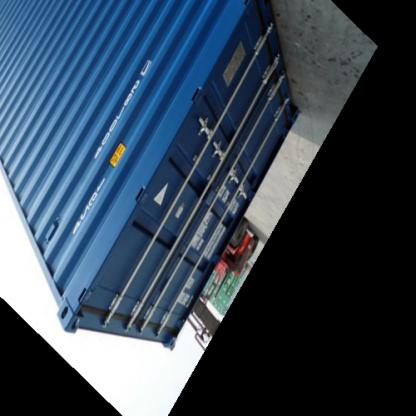Damage: (73, 308, 139, 322)
